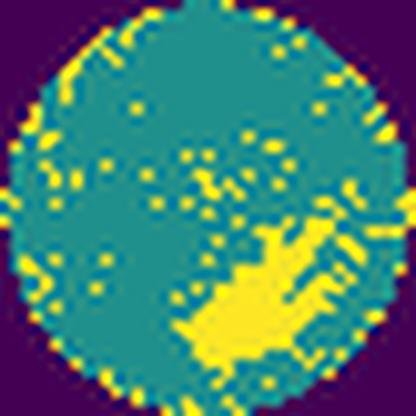Loc: (171, 195, 359, 371)
